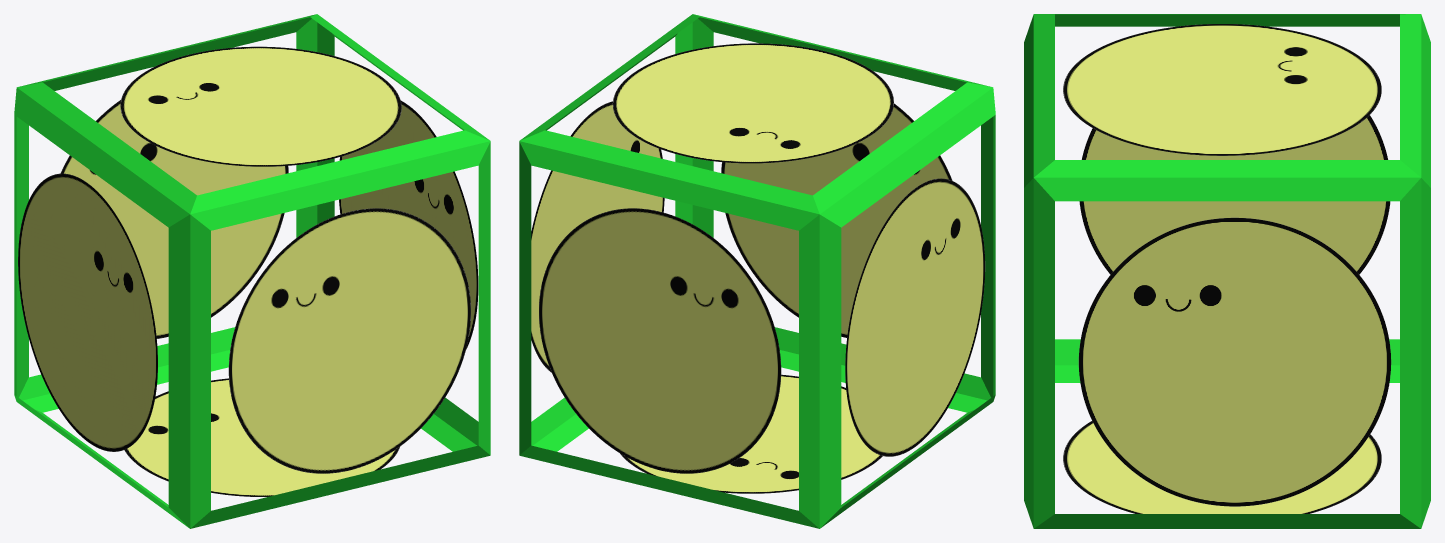
File: Fracciones un entero.fbx
3 renders of one model, left to right at view 1: azimuth 30°, elevation 25°; view 2: azimuth 150°, elevation 25°; view 3: azimuth 270°, elevation 25°, orthographic. The views are drawn at different scales.
Visible parts, largest first — view 1: 1/1; view 2: 1/1; view 3: 1/1.
Boxes of the visible parts, <box> form: 1/1: <box>14,14,490,528</box>; 1/1: <box>519,14,995,528</box>; 1/1: <box>1024,14,1430,528</box>.
Bounding box in the file's own units: 213 × 210 × 210.
Materials: 2 (1 with a texture image).
